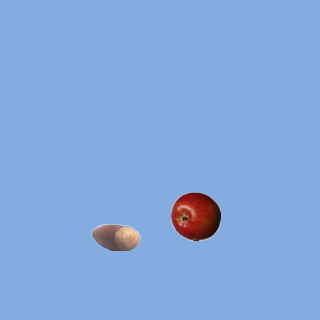Apple Braeburn: (170, 191, 220, 241)
Hazelnut: (90, 212, 140, 262)
